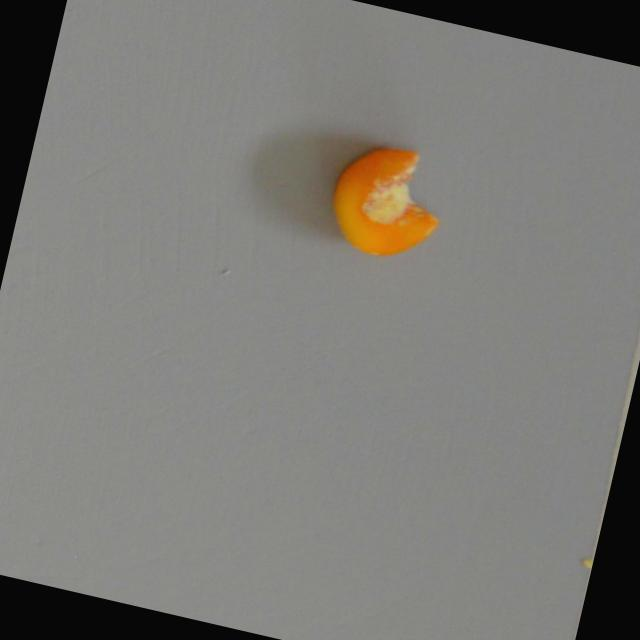dañado: (315, 131, 455, 270)
